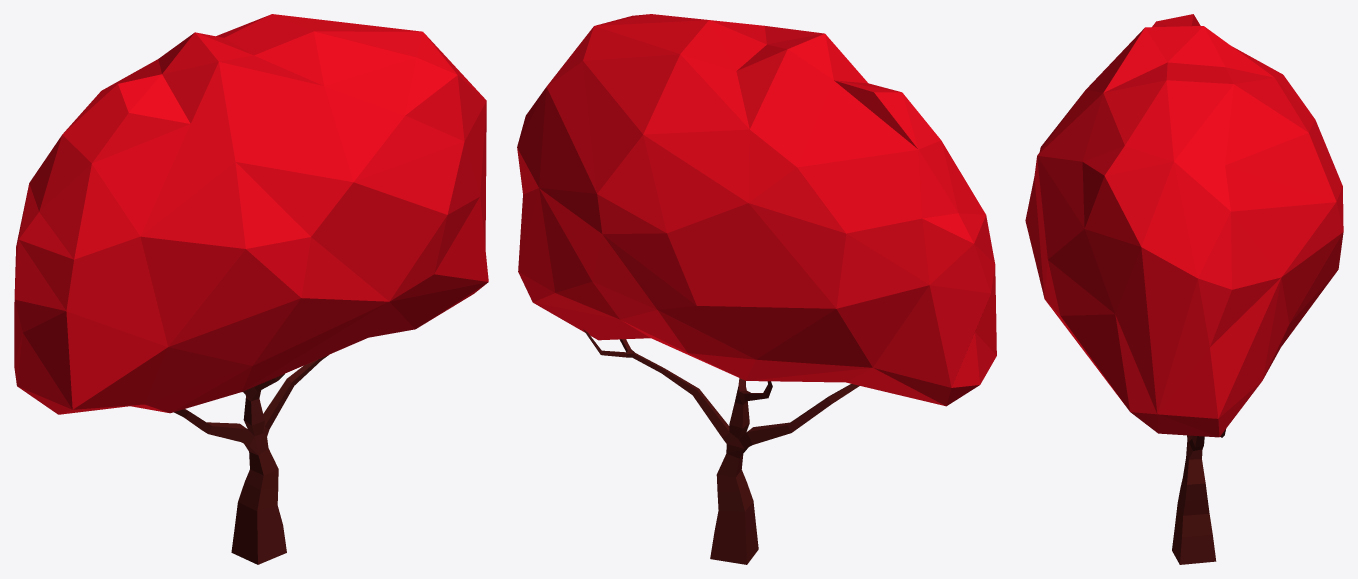
The model's file is Tree_Elm_Red_flat.gltf.
The picture shows the model from 3 angles, left to right: view 1: azimuth 30°, elevation 25°; view 2: azimuth 150°, elevation 25°; view 3: azimuth 270°, elevation 25°; orthographic projection. The views are drawn at different scales.
Visible parts, largest first — view 1: Tree_Elm_Red_flat; view 2: Tree_Elm_Red_flat; view 3: Tree_Elm_Red_flat.
Part boxes in pixels (<box>): Tree_Elm_Red_flat: <box>14,14,488,564</box>; Tree_Elm_Red_flat: <box>517,14,996,564</box>; Tree_Elm_Red_flat: <box>1025,14,1343,564</box>.
Bounding box in the file's own units: 13.09 × 14.38 × 8.24.
2 materials, 2 textured.
